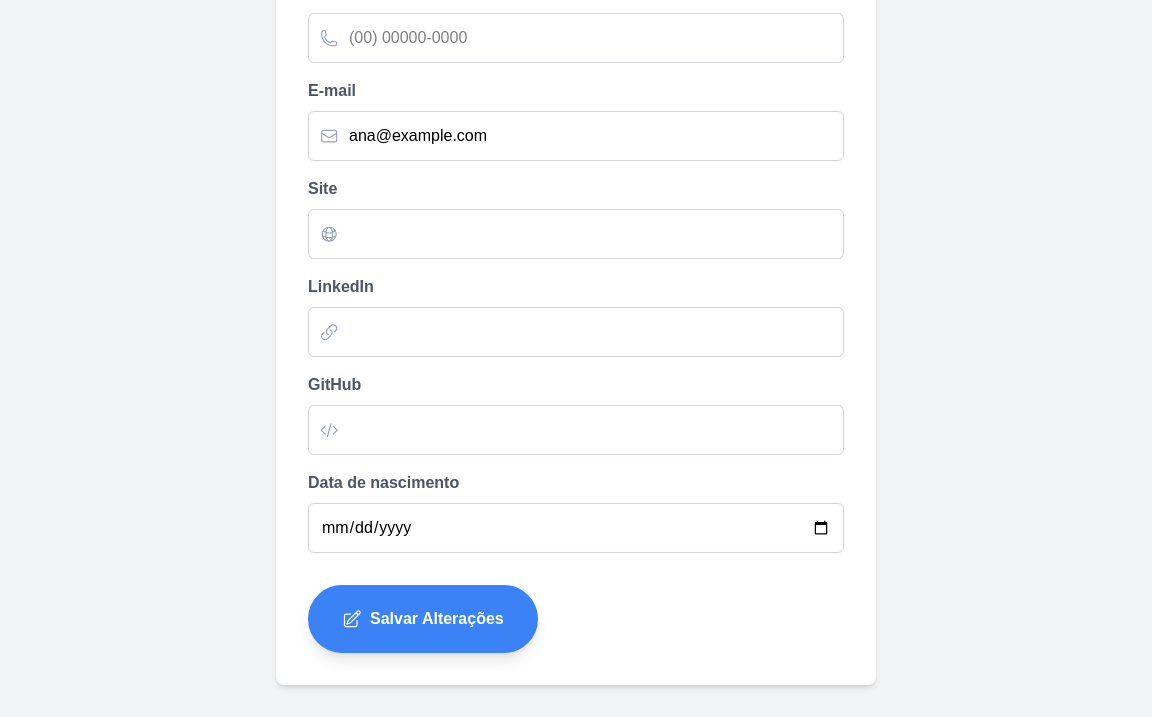
Test: UpdatePage › shows an error when updating the record fails
This screenshot has width=1152, height=717.
(page scrolled)
Click the button "Salvar Alterações" at (423, 619), box [308,585,538,653]
(page scrolled)
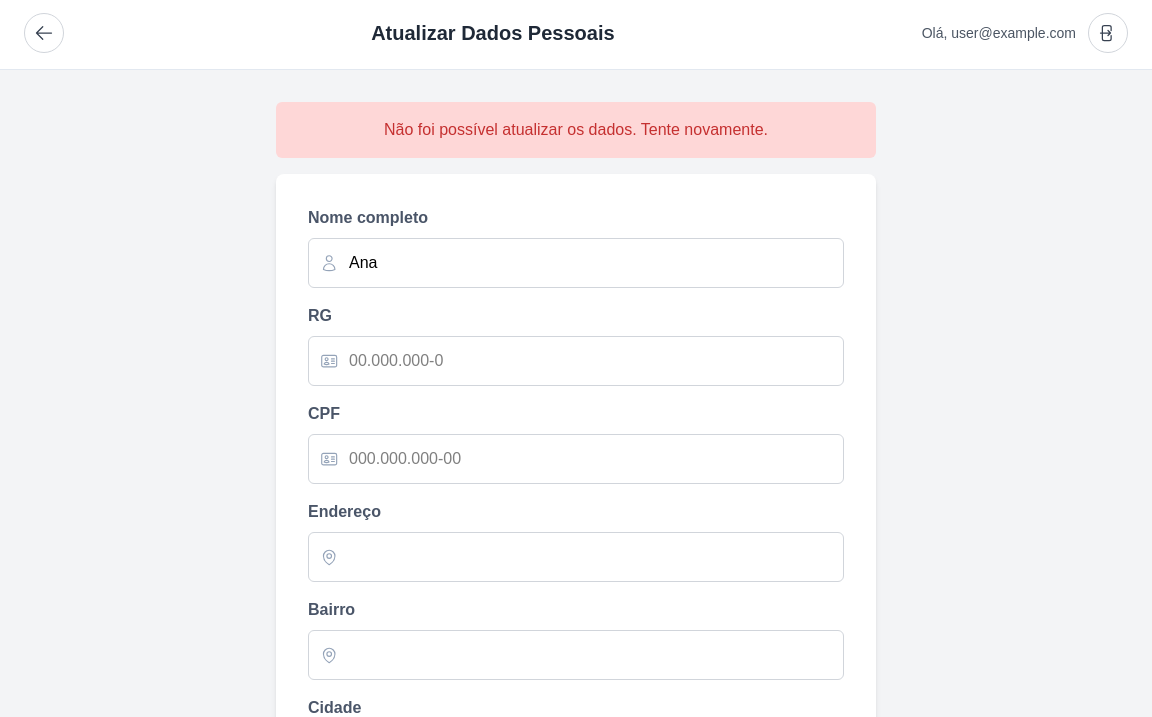
Check: the text "Não foi possível atualizar os dados. Tente novamente." is shown, box [276,102,876,158]
